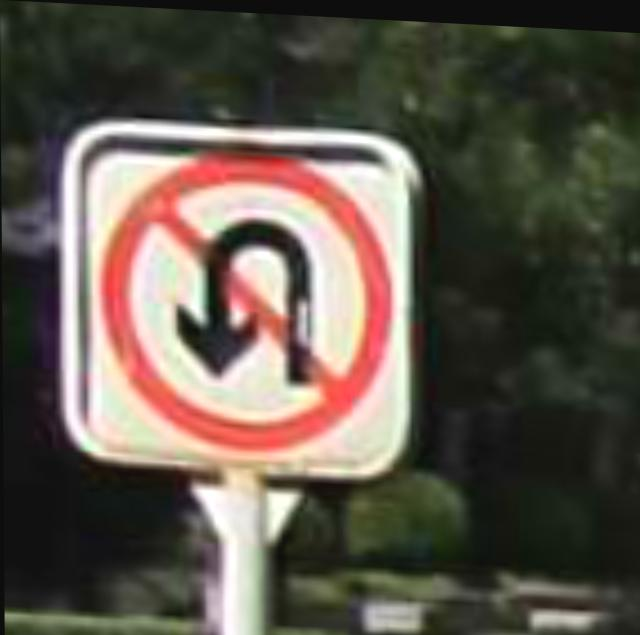not_u_turn_left: (112, 148, 391, 432)
